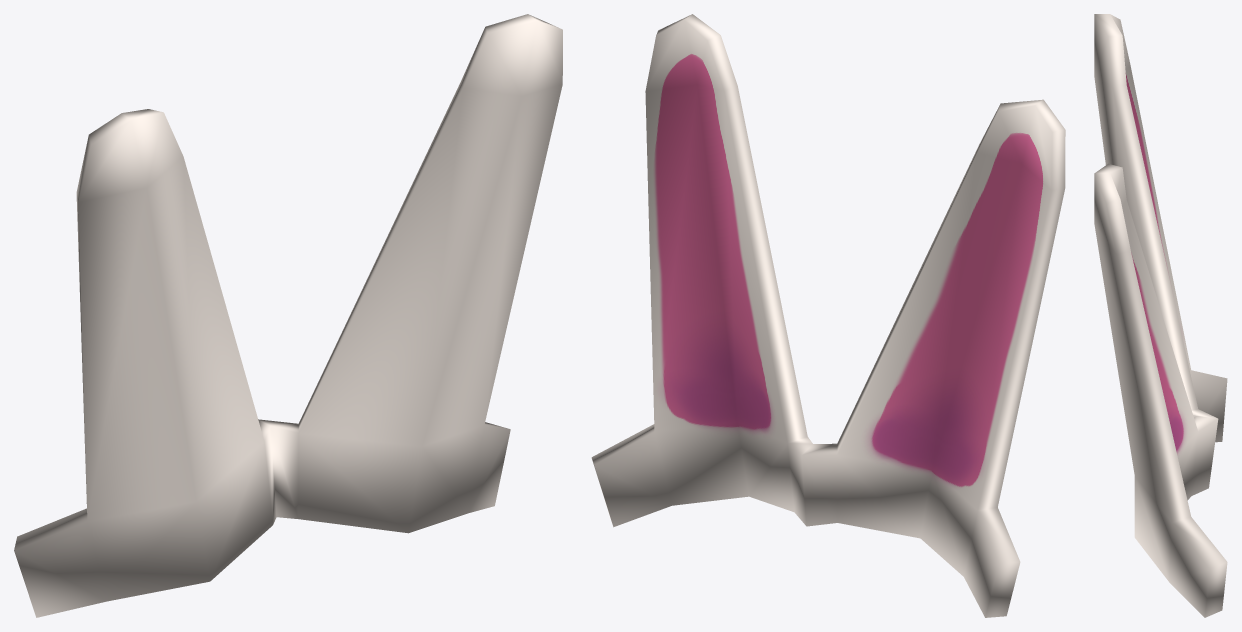
Rendered from bunny_hat.glb.
3 renders of one model, left to right at view 1: azimuth 30°, elevation 25°; view 2: azimuth 150°, elevation 25°; view 3: azimuth 270°, elevation 25°, orthographic. The views are drawn at different scales.
Visible parts, largest first — view 1: Plane; view 2: Plane; view 3: Plane.
Part boxes in pixels (<box>): Plane: <box>14,14,562,617</box>; Plane: <box>591,14,1065,617</box>; Plane: <box>1094,14,1227,617</box>.
Size of the model in its own units: 1.02 by 1.06 by 0.2944.
Materials: 1 (1 with a texture image).
